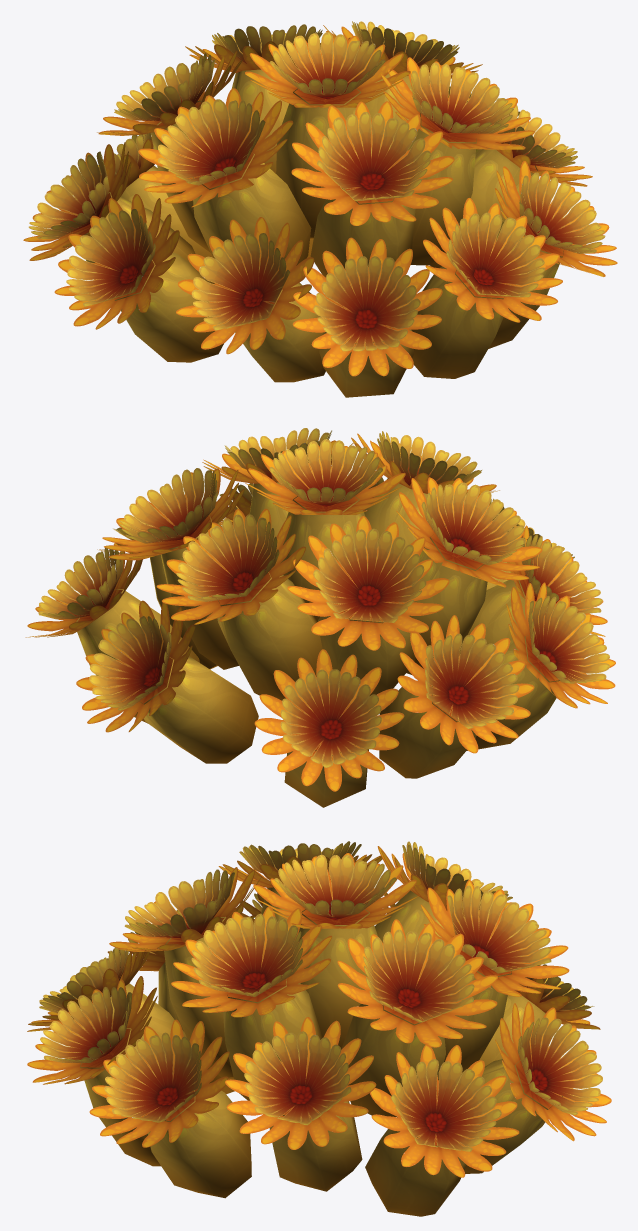
The model's file is Coral_30.FBX.
The picture shows the model from 3 angles, top to bottom: view 1: azimuth 30°, elevation 25°; view 2: azimuth 150°, elevation 25°; view 3: azimuth 270°, elevation 25°; orthographic projection. The views are drawn at different scales.
Parts seen in each view (by area): view 1: Coral_30; view 2: Coral_30; view 3: Coral_30.
Boxes of the visible parts, x1,y1,x2,y2 form: Coral_30: [23, 21, 617, 397]; Coral_30: [25, 428, 615, 807]; Coral_30: [27, 841, 611, 1216].
Bounding box in the file's own units: 78.39 × 40.04 × 76.51.
